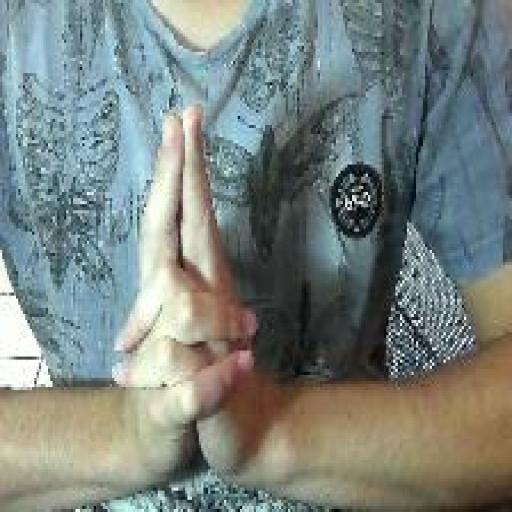Tora -tiger-: (110, 94, 263, 488)
